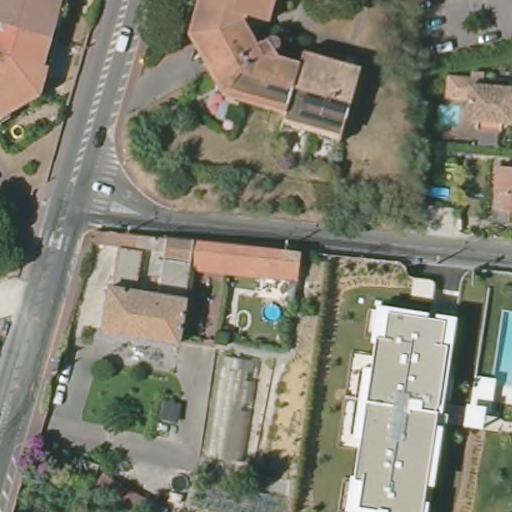pool: (487, 305, 512, 397), (436, 102, 462, 130), (259, 300, 284, 326), (430, 184, 450, 202)
